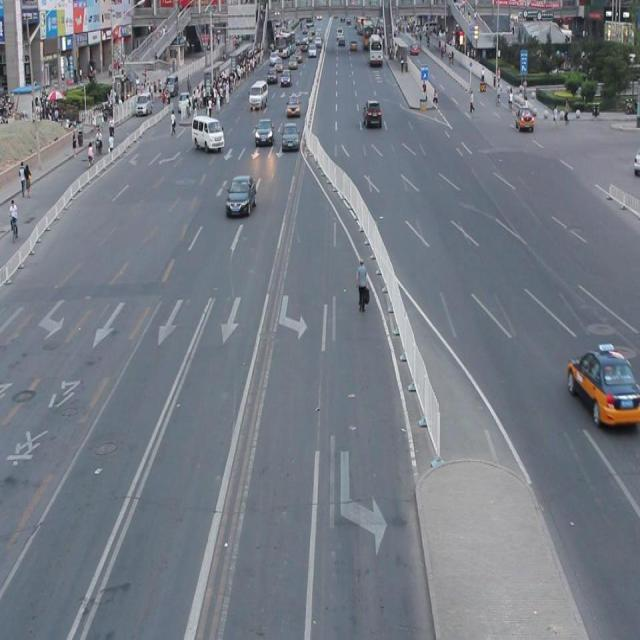car: (564, 346, 640, 425), (225, 173, 256, 219)
